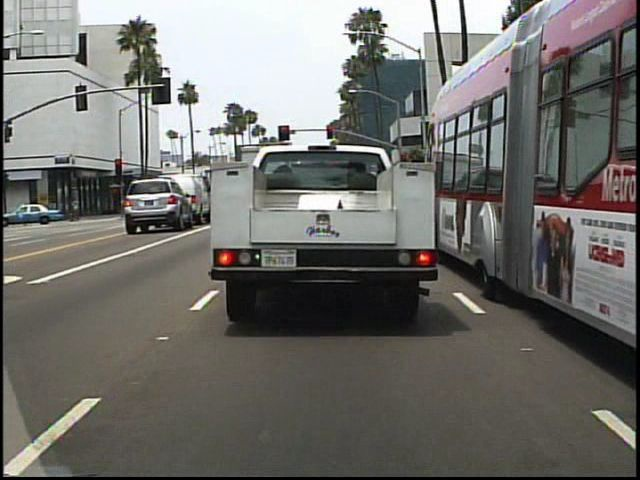person: (39, 194, 58, 226)
